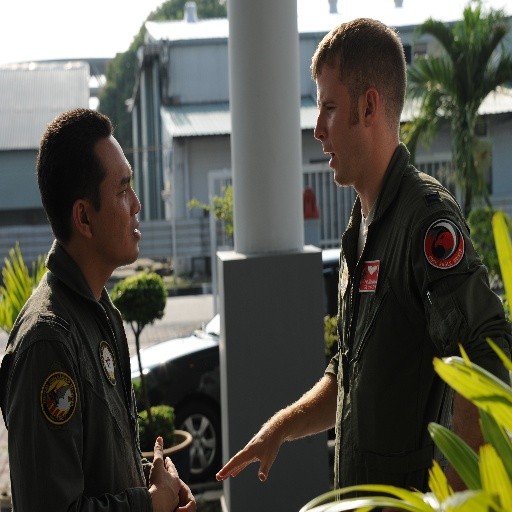hand: (214, 415, 281, 484), (143, 450, 189, 508), (177, 476, 197, 511)
